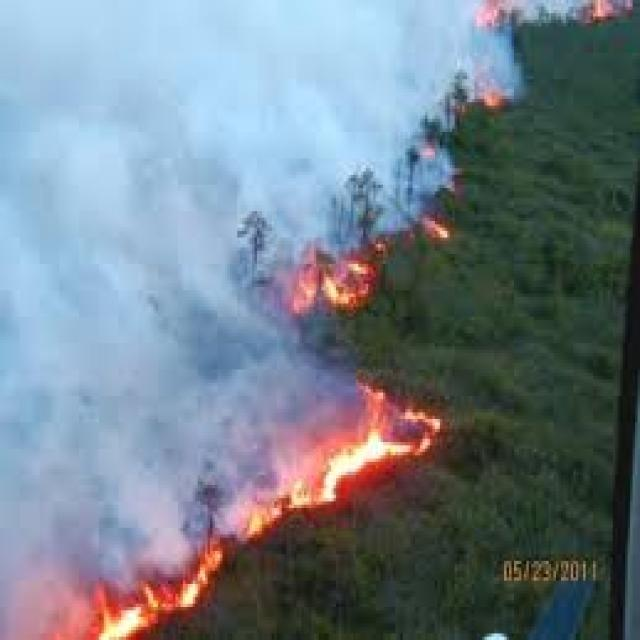Fire: (250, 390, 443, 520), (100, 544, 227, 640), (283, 235, 387, 326)
Smoke: (0, 0, 264, 225), (268, 0, 522, 231), (0, 228, 281, 385), (0, 386, 247, 539), (0, 540, 100, 636)
